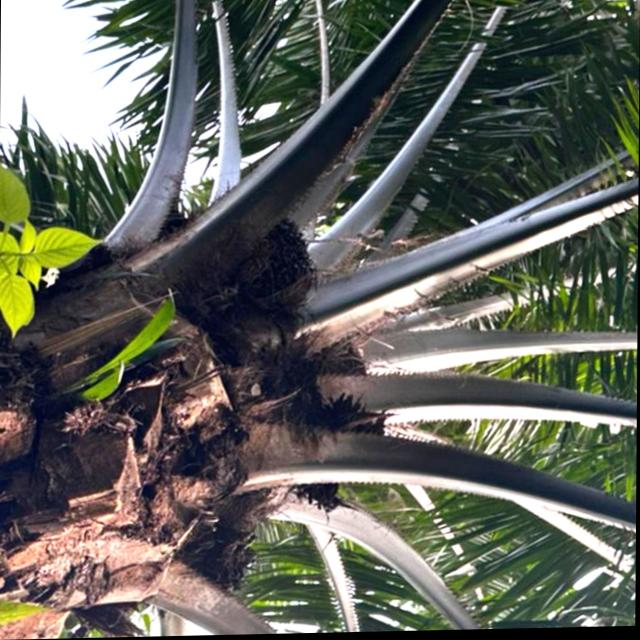unripe: (226, 216, 320, 318)
